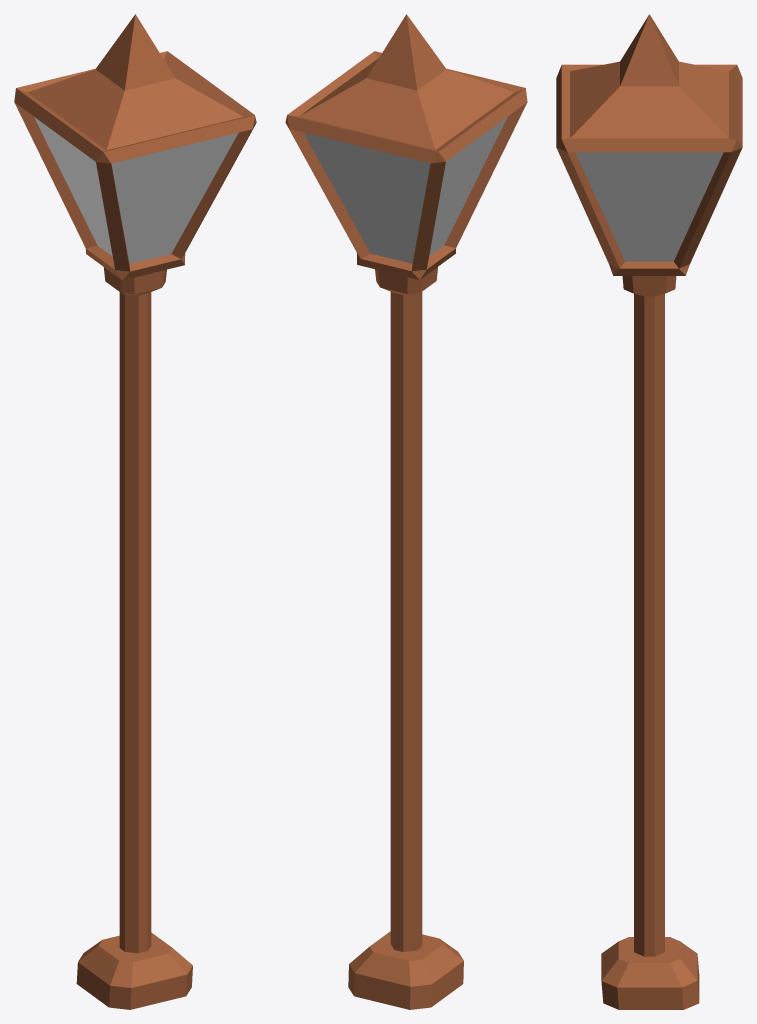
Rendered from Lantern.fbx.
The picture shows the model from 3 angles, left to right: view 1: azimuth 30°, elevation 25°; view 2: azimuth 150°, elevation 25°; view 3: azimuth 270°, elevation 25°; orthographic projection.
Parts seen in each view (by area): view 1: LANTERN; view 2: LANTERN; view 3: LANTERN.
Part boxes in pixels (x1,y1,x2,y2): LANTERN: (14, 14, 256, 1009); LANTERN: (285, 14, 527, 1009); LANTERN: (556, 14, 742, 1009).
Size of the model in its own units: 35.18 by 203 by 35.18.
